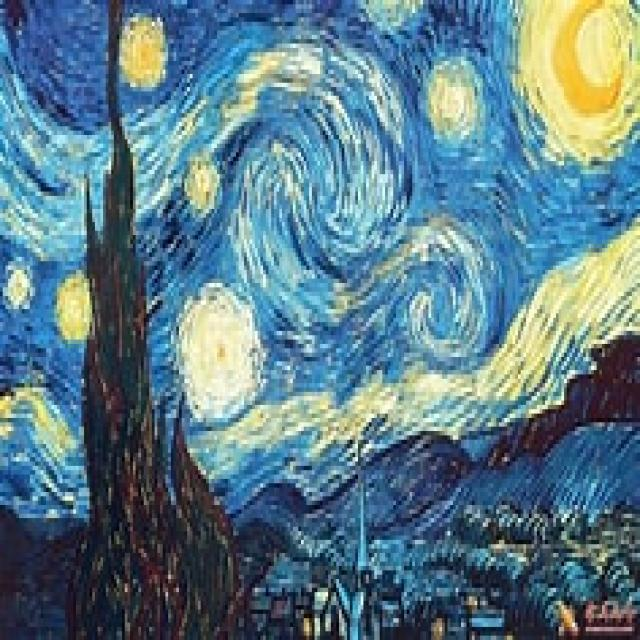starrynight: (2, 5, 636, 632)
